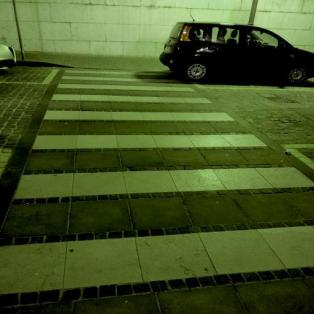Paso de Cebra: (25, 107, 276, 158), (53, 74, 201, 94)
